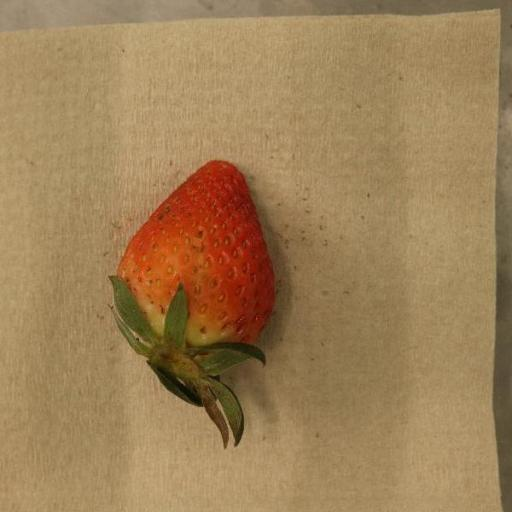Strawberry: (109, 160, 276, 450)
